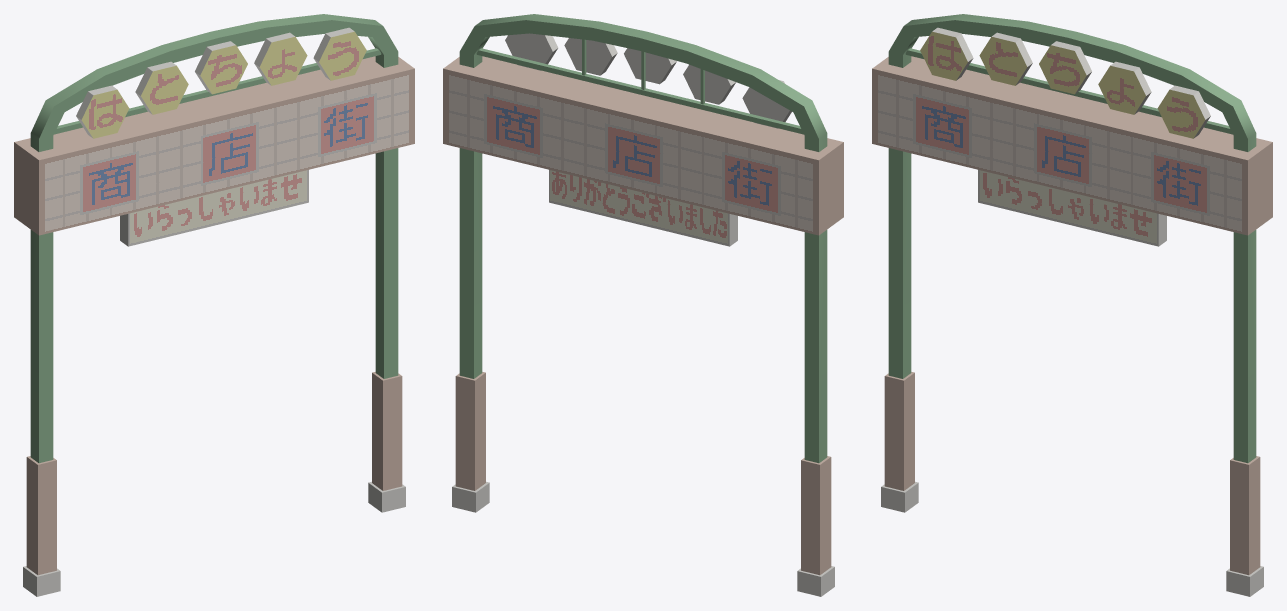
Rendered from 010e_Shop._Center_Arch.glb.
3 renders of one model, left to right at view 1: azimuth 30°, elevation 25°; view 2: azimuth 150°, elevation 25°; view 3: azimuth 330°, elevation 25°, orthographic.
Visible parts, largest first — view 1: part_0; view 2: part_0; view 3: part_0.
Boxes of the visible parts, left/top/right/bottom form: part_0: left=14, top=14, right=414, bottom=596; part_0: left=443, top=14, right=843, bottom=596; part_0: left=872, top=14, right=1272, bottom=596.
Size of the model in its own units: 3.92 by 5.1 by 0.45.
1 material, 1 textured.
